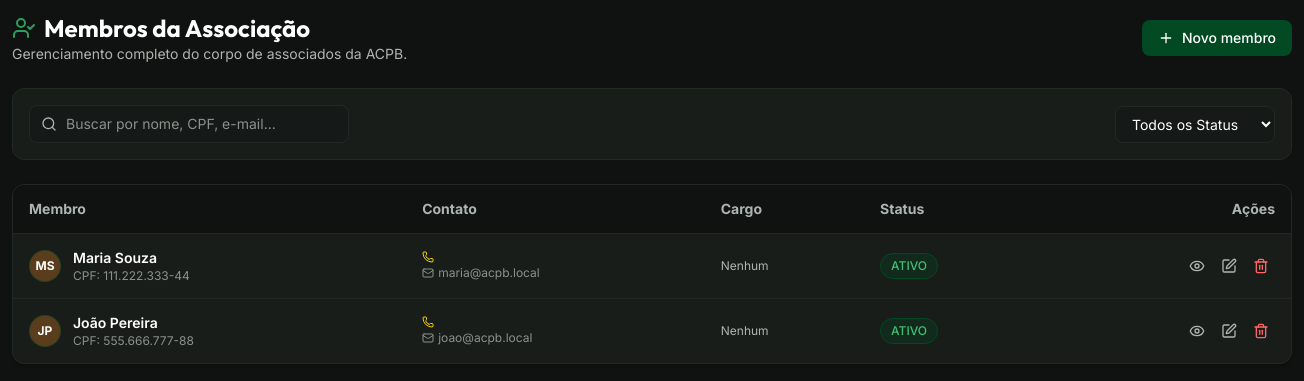
it: MembersList — busca › campo vazio mostra todos de novo
Type "Maria" into the field with placeholder "Buscar por nome, CPF, e-mail..." at (189, 124), box [29,105,349,143]
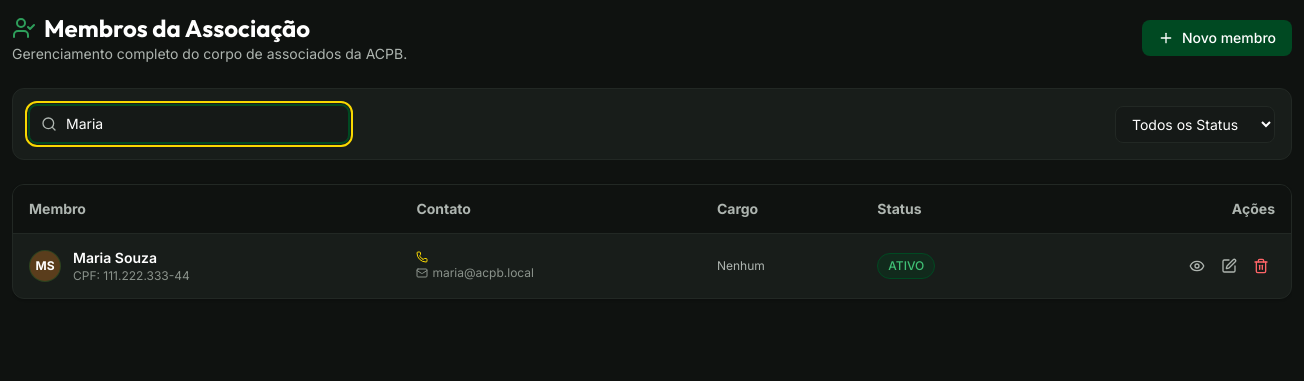
Clear the field with placeholder "Buscar por nome, CPF, e-mail..." at (189, 124), box [29,105,349,143]
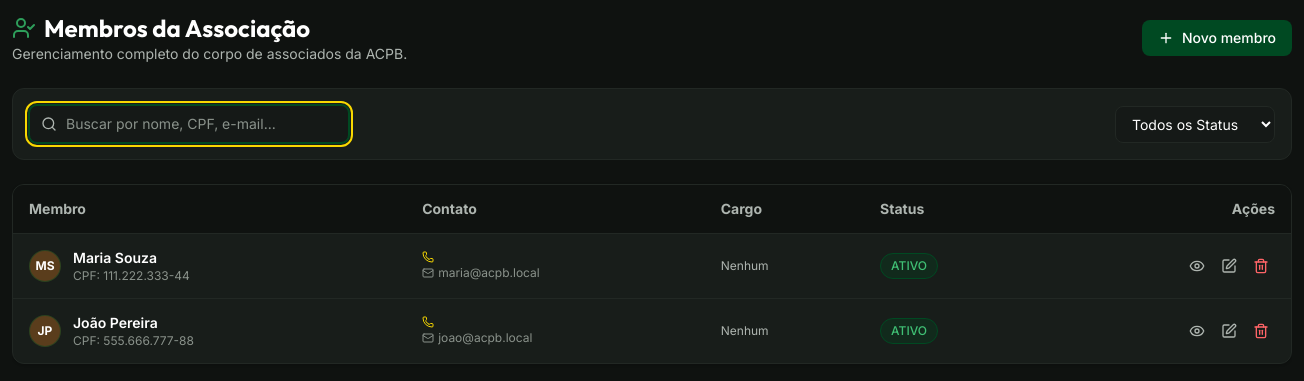
Expected: the text "Maria Souza" is shown, [73,249,157,266]
Result: the text "João Pereira" is shown at [73,314,158,331]
